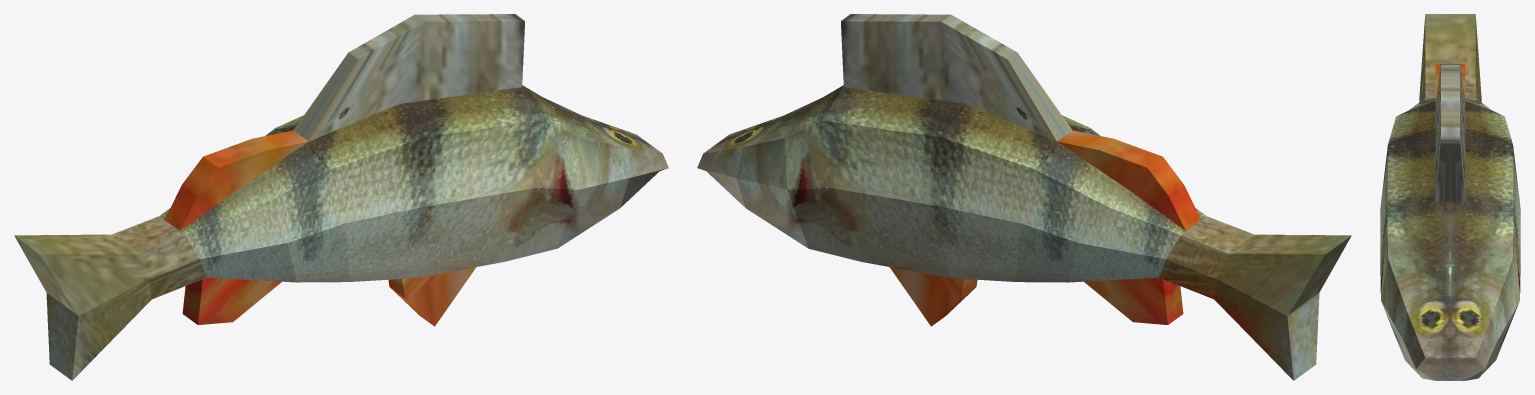
The model's file is ahven_whole.fbx.
3 views of the same model, side by side, from view 1: azimuth 30°, elevation 25°; view 2: azimuth 150°, elevation 25°; view 3: azimuth 270°, elevation 25° (orthographic). The views are drawn at different scales.
Parts seen in each view (by area): view 1: Ahven; view 2: Ahven; view 3: Ahven.
Boxes of the visible parts, x1,y1,x2,y2 form: Ahven: (14, 14, 668, 380); Ahven: (697, 14, 1351, 380); Ahven: (1380, 14, 1520, 380).
Size of the model in its own units: 38.7 by 18.02 by 7.76.
